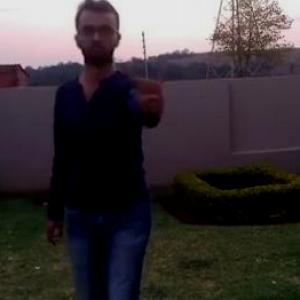takeoff-hand: (124, 65, 178, 116)
